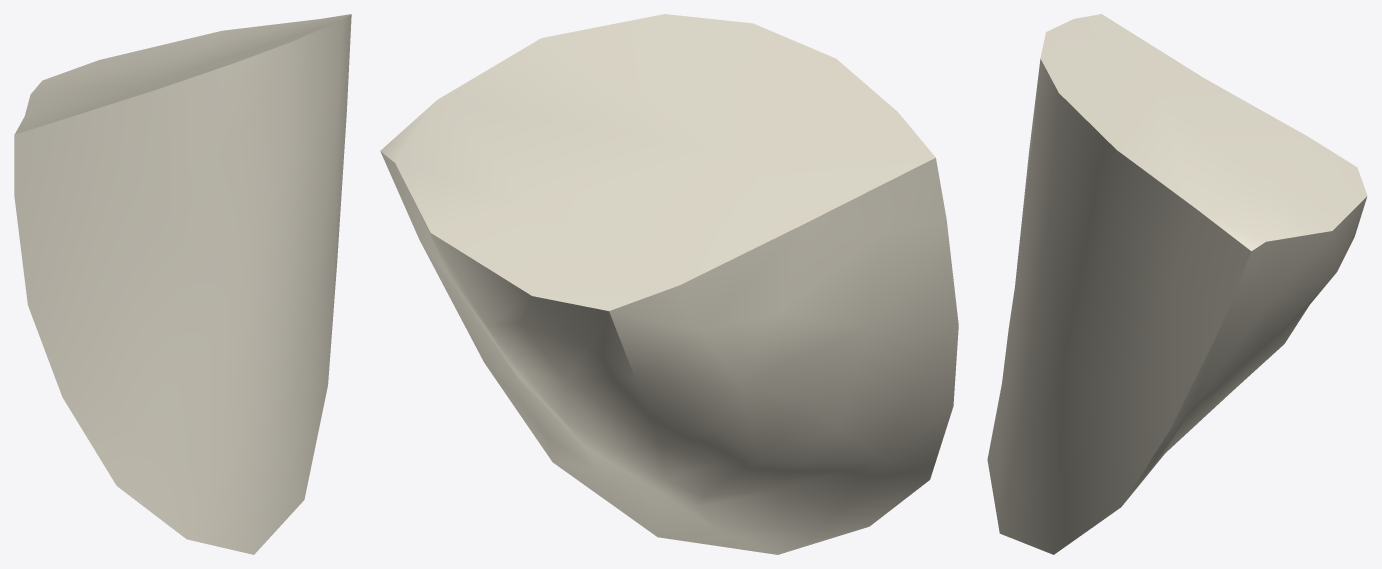
Rendered from fma23528_mm1884.glb.
3 views of the same model, side by side, from view 1: azimuth 30°, elevation 25°; view 2: azimuth 150°, elevation 25°; view 3: azimuth 270°, elevation 25° (orthographic). The views are drawn at different scales.
Parts seen in each view (by area): view 1: FMA23528_MM1884; view 2: FMA23528_MM1884; view 3: FMA23528_MM1884.
Part boxes in pixels (left/top/right/bottom): FMA23528_MM1884: left=14, top=14, right=351, bottom=554; FMA23528_MM1884: left=380, top=14, right=958, bottom=554; FMA23528_MM1884: left=987, top=14, right=1367, bottom=554.
Size of the model in its own units: 0.00707 by 0.0078 by 0.00565.
